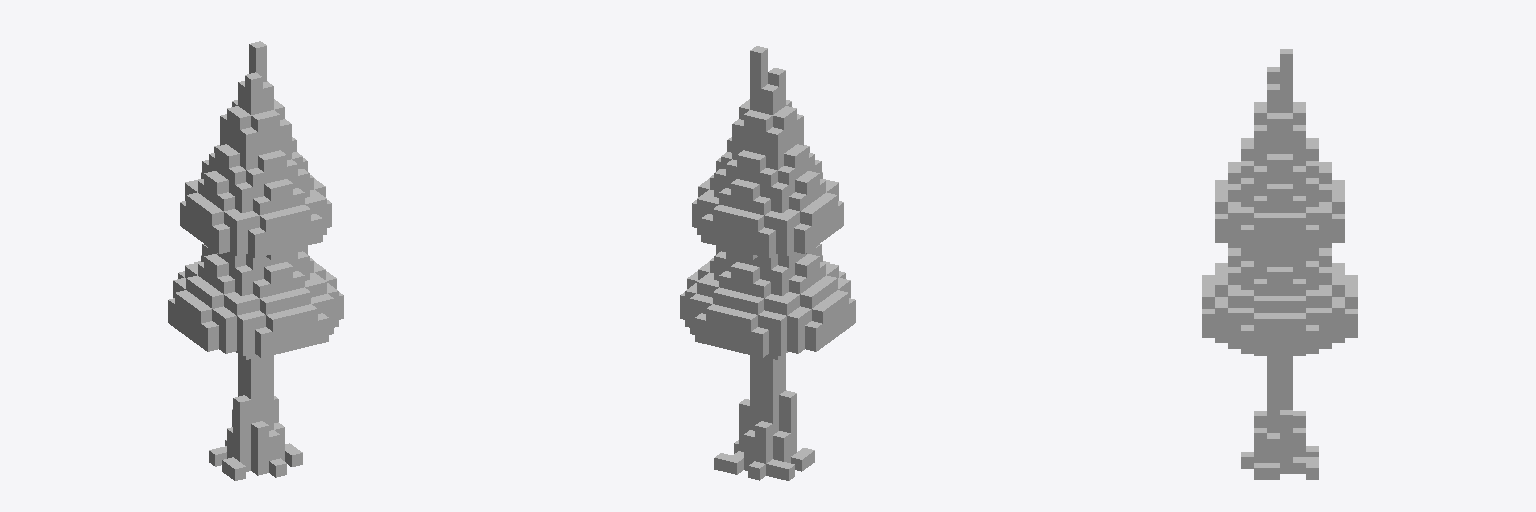
Rendered from Tree_V3_Snow.obj.
3 views of the same model, side by side, from view 1: azimuth 30°, elevation 25°; view 2: azimuth 150°, elevation 25°; view 3: azimuth 270°, elevation 25° (orthographic).
Parts seen in each view (by area): view 1: Tree_V3_Snow; view 2: Tree_V3_Snow; view 3: Tree_V3_Snow.
Part boxes in pixels (x1,y1,x2,y2): Tree_V3_Snow: (168,41,343,480); Tree_V3_Snow: (680,46,855,480); Tree_V3_Snow: (1202,49,1357,479).
Size of the model in its own units: 12 by 35 by 12.